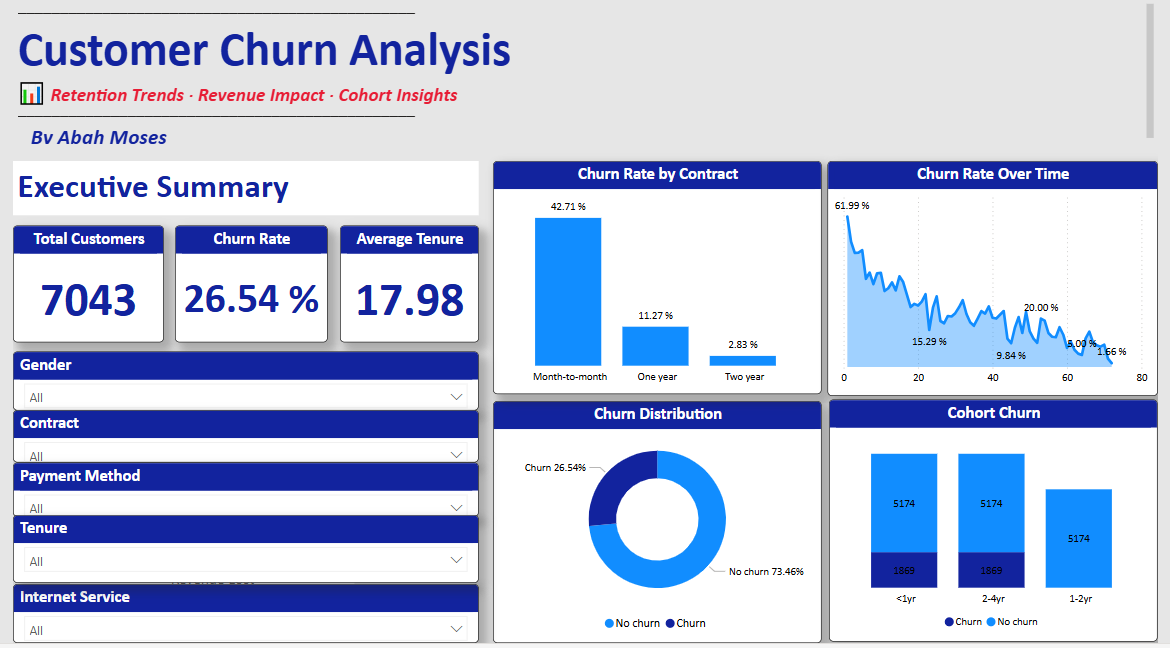

The dashboard page shown, as its layout file describes it:
{"tool":"powerbi","page":{"name":"Over View","canvas":[1280,720],"ordinal":0},"visuals":[{"type":"card","title":"Total Customers","fields":{"Values":["Sheet1.TotalCustomers"]},"box":[0,253.7,168.5,130.7],"z":0},{"type":"card","title":"Churn Rate","fields":{"Values":["Sheet1.Churn Rate"]},"box":[181.8,253.7,170.4,130.7],"z":1000},{"type":"card","title":"Average Tenure","fields":{"Values":["Sheet1.Average Tenure"]},"box":[365.4,253.7,155.3,130.7],"z":2000},{"type":"donutChart","title":"Churn Distribution","fields":{"Category":["Sheet1.Churn"],"Y":["CountNonNull(Sheet1.Churn)"]},"box":[535.9,448.8,367.3,270.8],"z":3000},{"type":"clusteredColumnChart","fields":{"Y":["Sheet1.Churn Rate"],"Category":["Sheet1.Contract"]},"box":[536,181.3,367.4,260.9],"z":4000},{"type":"areaChart","title":"Churn Rate Over Time","fields":{"Category":["Sheet1.tenure"],"Y":["Sheet1.Churn Rate"]},"box":[911.4,181.3,369,262.5],"z":5000},{"type":"card","fields":{"Values":["Sheet1.Lost Revenue"]},"box":[64.4,532.1,318.1,155.3],"z":6000},{"type":"slicer","title":"Gender","fields":{"Values":["Sheet1.gender"]},"box":[0,393.8,520.7,66.3],"z":7000},{"type":"slicer","title":"Internet Service","fields":{"Values":["Sheet1.InternetService"]},"box":[0,653.3,520.7,66.3],"z":8000},{"type":"slicer","title":"Contract","fields":{"Values":["Sheet1.Contract"]},"box":[0,460.1,520.7,58.7],"z":9000},{"type":"slicer","title":"Payment Method","fields":{"Values":["Sheet1.PaymentMethod"]},"box":[0,518.8,520.7,60.6],"z":10000},{"type":"slicer","title":"Tenure","fields":{"Values":["Sheet1.tenure"]},"box":[0,577.5,520.7,75.7],"z":11000},{"type":"columnChart","title":"Cohort Churn","fields":{"Series":["Sheet1.Churn"],"Category":["customer_churn_cohort.cohort"],"Y":["CountNonNull(Sheet1.customerID)"]},"box":[913,448.6,367.4,270.4],"z":12000},{"type":"textbox","box":[0,0,1280,166.6],"z":13000},{"type":"textbox","box":[0,181.8,520.7,60.6],"z":14000}]}

Visuals, with their boxes in screenshot pixels (x1, y1, x2, y2), scaled from the page's 1280x720 canvas onto the 1170x648 screenshot:
"Total Customers" card: <region>0, 228, 154, 346</region>
"Churn Rate" card: <region>166, 228, 322, 346</region>
"Average Tenure" card: <region>334, 228, 476, 346</region>
"Churn Distribution" donutChart: <region>490, 404, 826, 647</region>
clusteredColumnChart - Sheet1.Churn Rate x Sheet1.Contract: <region>490, 163, 826, 398</region>
"Churn Rate Over Time" areaChart: <region>833, 163, 1169, 399</region>
card - Sheet1.Lost Revenue: <region>59, 479, 350, 619</region>
"Gender" slicer: <region>0, 354, 476, 414</region>
"Internet Service" slicer: <region>0, 588, 476, 647</region>
"Contract" slicer: <region>0, 414, 476, 467</region>
"Payment Method" slicer: <region>0, 467, 476, 521</region>
"Tenure" slicer: <region>0, 520, 476, 588</region>
"Cohort Churn" columnChart: <region>835, 404, 1169, 647</region>
textbox: <region>0, 0, 1169, 150</region>
textbox: <region>0, 164, 476, 218</region>
